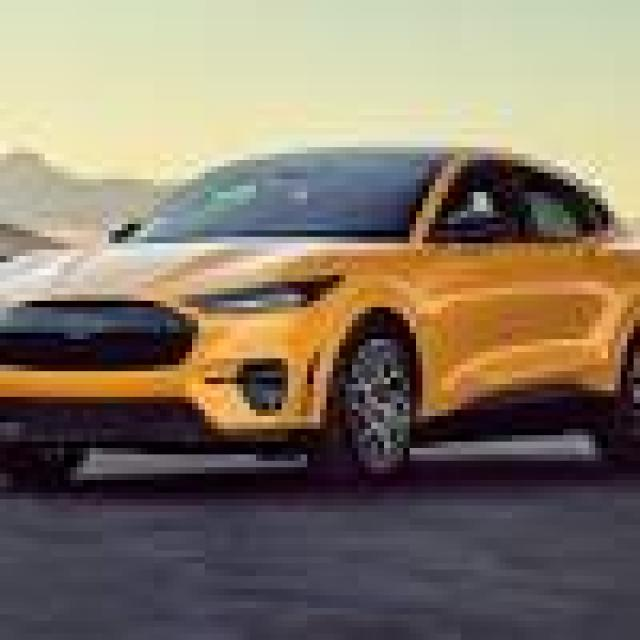SUV: (3, 157, 640, 475)
